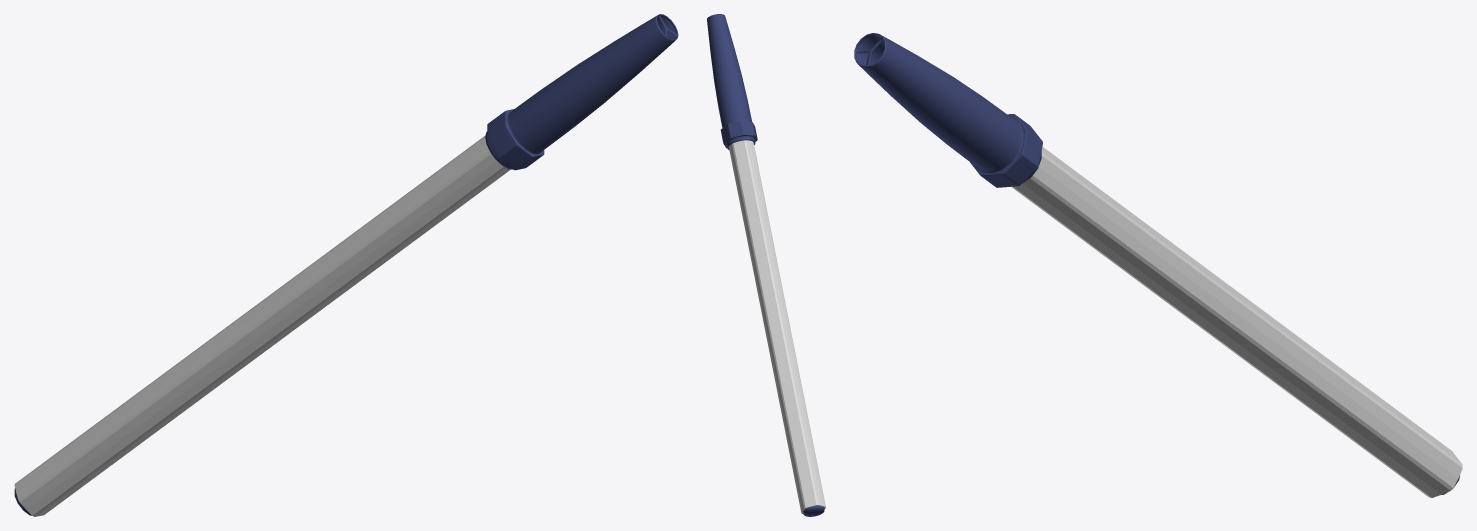
The model's file is pen3.fbx.
The picture shows the model from 3 angles, left to right: view 1: azimuth 30°, elevation 25°; view 2: azimuth 150°, elevation 25°; view 3: azimuth 270°, elevation 25°; orthographic projection. The views are drawn at different scales.
Parts seen in each view (by area): view 1: Cylinder, Cylinder.005; view 2: Cylinder, Cylinder.005, Cylinder.001; view 3: Cylinder, Cylinder.005.
Boxes of the visible parts, x1,y1,x2,y2 form: Cylinder: (14, 135, 510, 516); Cylinder.005: (485, 14, 678, 170); Cylinder: (729, 140, 825, 513); Cylinder.005: (707, 14, 757, 149); Cylinder.001: (803, 506, 824, 516); Cylinder: (1011, 146, 1462, 497); Cylinder.005: (854, 33, 1042, 187).
Size of the model in its own units: 650 by 834 by 668.
